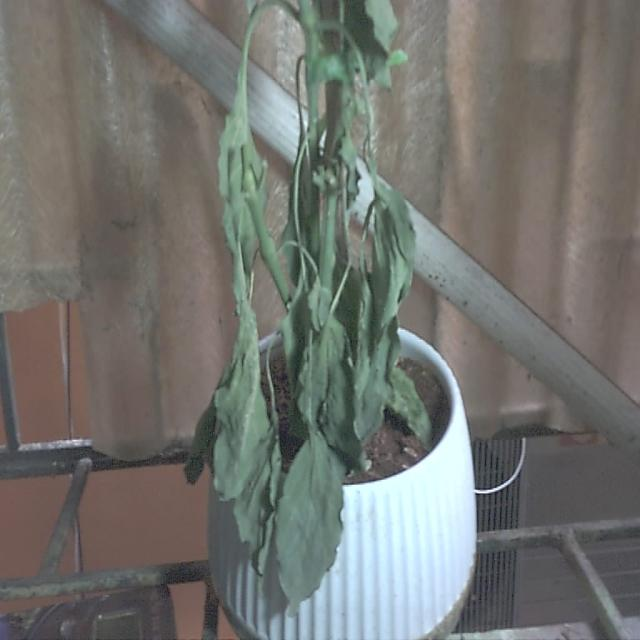Leaf: (213, 300, 280, 574), (275, 432, 343, 614), (298, 316, 362, 469), (387, 366, 431, 445), (184, 399, 215, 484), (365, 0, 398, 52)
